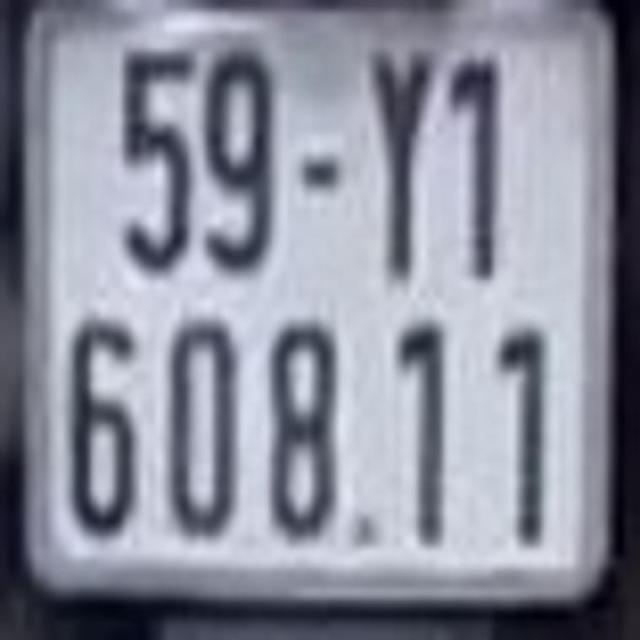0: (155, 296, 244, 542)
1: (384, 302, 467, 552), (492, 306, 566, 560), (444, 44, 518, 284)
5: (118, 46, 196, 284)
6: (54, 302, 144, 542)
8: (268, 302, 352, 552)
9: (198, 42, 285, 277)
Y: (357, 44, 440, 282)
